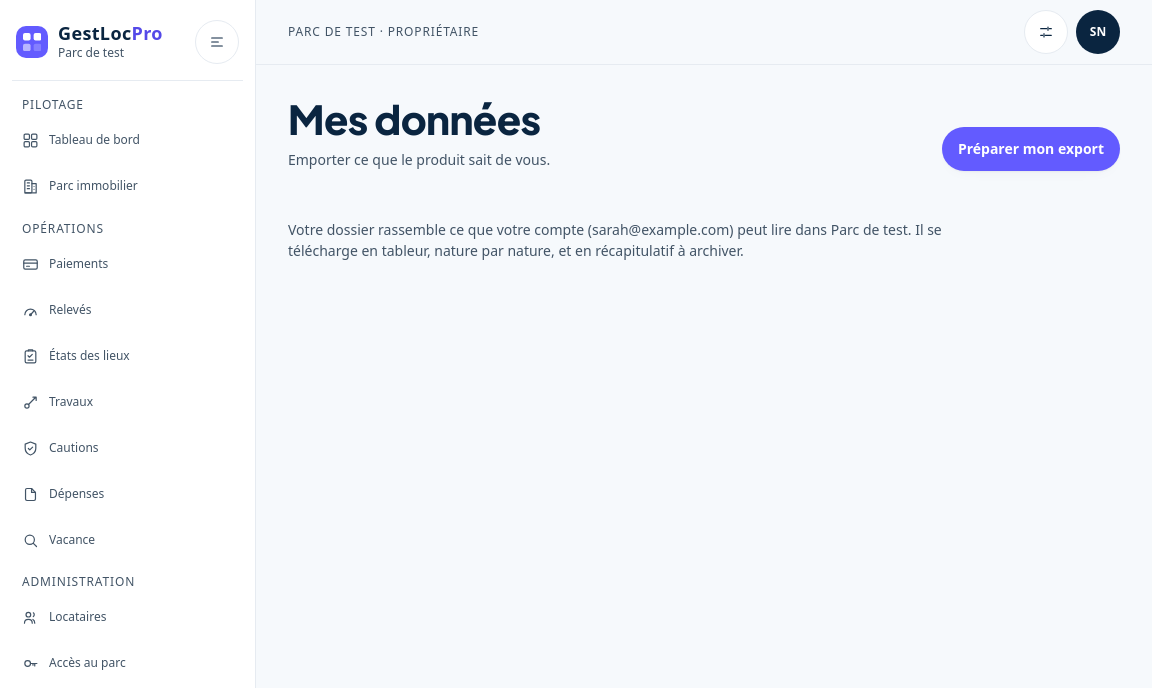
Test case: les lignes de « Mes données » › annonce le dossier prêt sans couper la parole
Click the button "Préparer mon export". click: [1031, 149]
box: x1=942 y1=127 x2=1120 y2=171
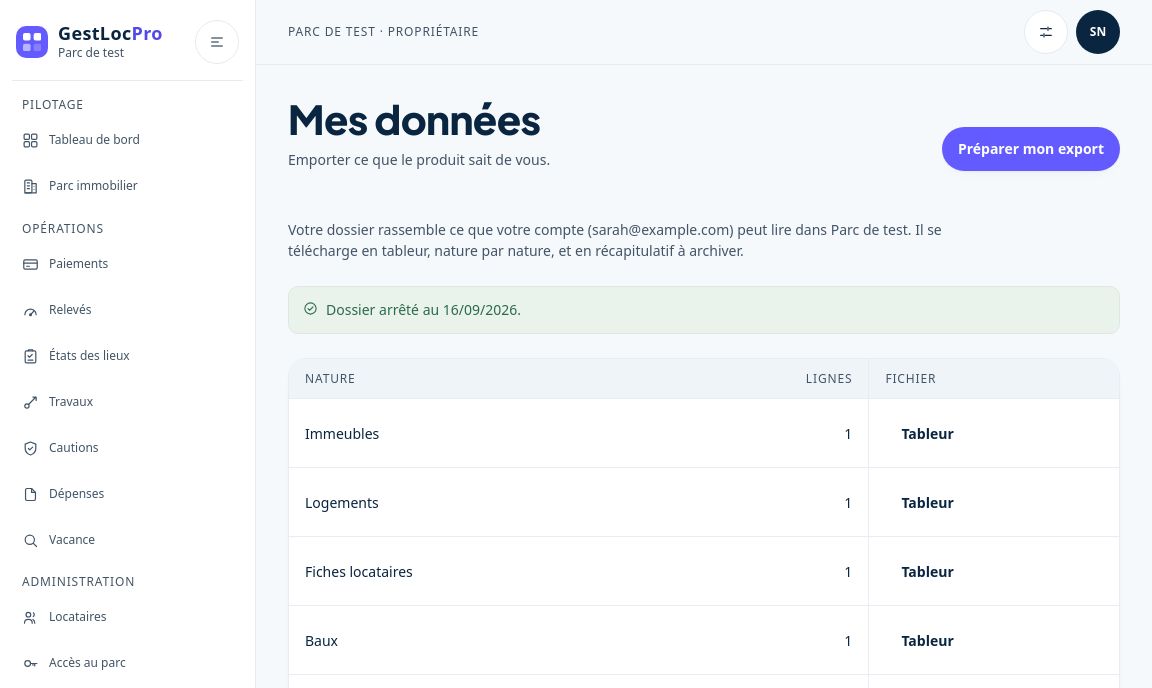
Check: the message shows "Dossier arrêté", box x1=326 y1=300 x2=521 y2=319
